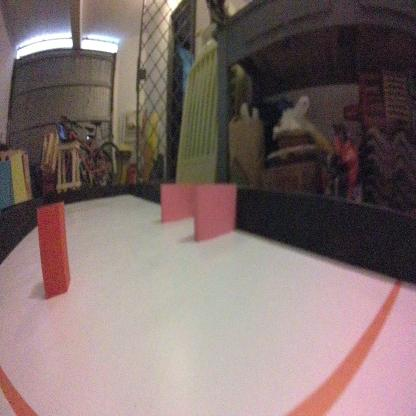magenta: (192, 183, 235, 243), (157, 178, 198, 221)
red: (35, 198, 71, 300)
